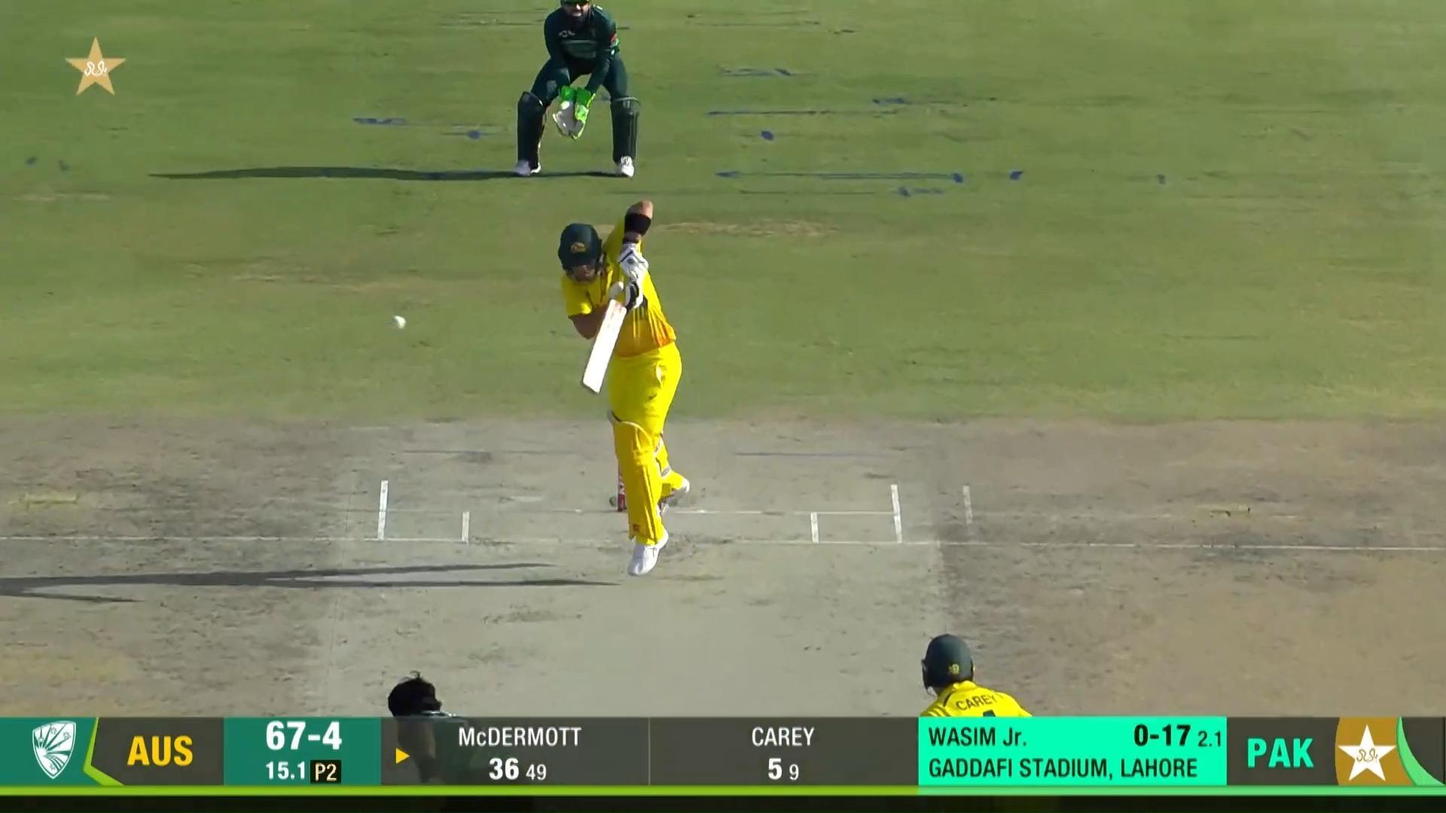BM 1: (558, 197, 692, 576)
BO: (386, 669, 527, 786)
